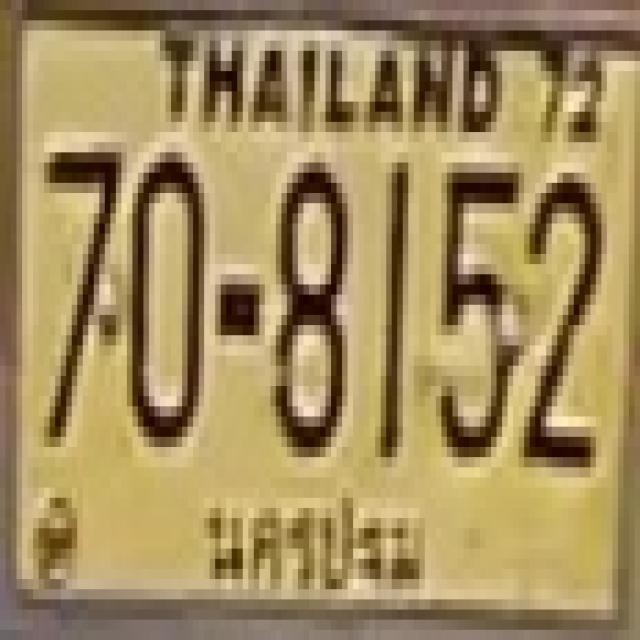0: (125, 142, 202, 437)
1: (378, 158, 405, 452)
2: (518, 168, 596, 462)
5: (436, 158, 518, 452)
7: (42, 142, 118, 437)
8: (273, 152, 345, 447)
NPT: (193, 473, 437, 610)
